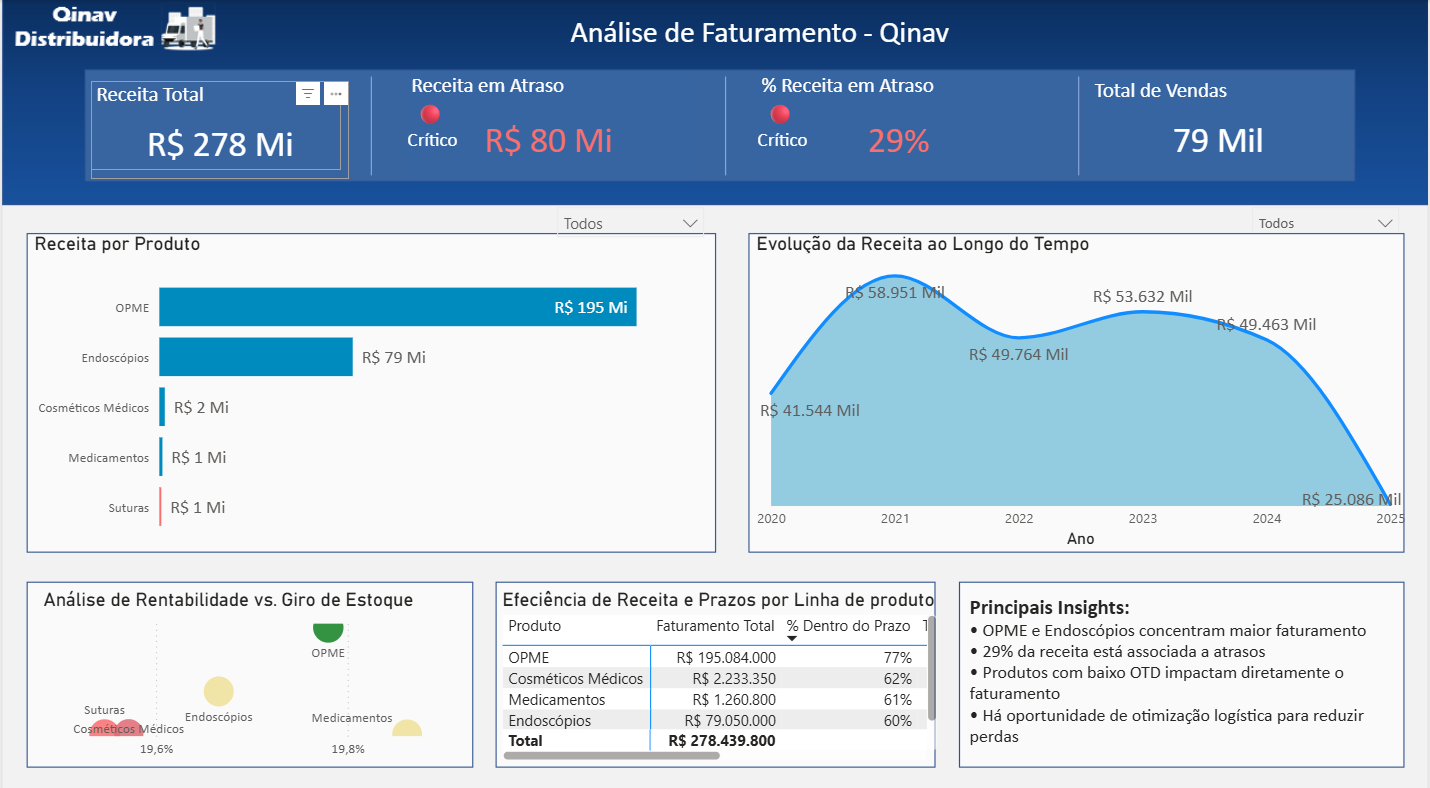

The page's visual inventory and layout, read from the dashboard file:
{"tool":"powerbi","page":{"name":"ANÁLISE DE FATURAMENTO","canvas":[1280,720],"ordinal":1},"visuals":[{"type":"textbox","box":[296,8,768,48],"z":0},{"type":"card","title":"Receita em Atraso","fields":{"Values":["Medidas.Impacto Receita Atraso"]},"box":[362.5,64.7,256,96],"z":500,"group":"g12"},{"type":"card","title":"% Receita em Atraso","fields":{"Values":["Medidas.% Receita em Atraso"]},"box":[677,64.7,256,96],"z":500,"group":"g16"},{"type":"card","title":"Total de Vendas","fields":{"Values":["Medidas.Total de Vendas"]},"box":[975.5,68.7,232,88],"z":500,"group":"g19"},{"type":"card","title":" Receita Total","fields":{"Values":["Medidas.Faturamento Total"]},"box":[80,72.7,232,88],"z":500,"group":"g24"},{"type":"group","id":"g1","title":"Grupo 3","box":[975.5,68.7,232,88],"z":1000},{"type":"clusteredBarChart","title":"Receita por Produto","fields":{"Category":["14-Analise-OTD-Distrubuidora.tipo_produto"],"Y":["Medidas.Faturamento Total"]},"box":[24,208,616,288],"z":2000},{"type":"group","id":"g2","title":"Grupo 2","box":[362.5,64.7,256,96],"z":3000,"group":"g6"},{"type":"group","id":"g3","title":"Grupo 2","box":[677,64.7,256,96],"z":3000,"group":"g7"},{"type":"areaChart","title":"Evolução da Receita ao Longo do Tempo","fields":{"Y":["Medidas.Faturamento Total"],"Category":["DCalendario.Ano"]},"box":[672,208,592,288],"z":3000},{"type":"card","fields":{"Values":["Medidas.Status OTD"]},"box":[346.5,80.7,80,64],"z":3500,"group":"g6"},{"type":"card","fields":{"Values":["Medidas.Status OTD"]},"box":[661,80.7,80,64],"z":3500,"group":"g7"},{"type":"pivotTable","title":"Efeciência de Receita e Prazos por Linha de produto","fields":{"Rows":["14-Analise-OTD-Distrubuidora.tipo_produto"],"Values":["Medidas.Faturamento Total","Medidas.% Dentro do Prazo - Sem Total","Medidas.Tempo Médio Entrega - Sem o Total","Medidas.Rotatividade - Sem o Total"]},"box":[444,528,400,160],"z":4000},{"type":"slicer","fields":{"Values":["14-Analise-OTD-Distrubuidora.data.Variation.Hierarquia de datas.Ano"]},"box":[1112,176,152,32],"z":5000},{"type":"textbox","box":[864,528,392,160],"z":6000},{"type":"scatterChart","title":"Análise de Rentabilidade vs. Giro de Estoque","fields":{"X":["Medidas.Rotatividade Estoque"],"Y":["Medidas.Faturamento Total"],"Size":["CountNonNull(14-Analise-OTD-Distrubuidora.nivel_estoque)"],"Category":["14-Analise-OTD-Distrubuidora.tipo_produto"]},"box":[32,528,384,160],"z":7000},{"type":"group","id":"g4","title":"Grupo 8","box":[661,64.7,272,96],"z":8000},{"type":"group","id":"g5","title":"Grupo 1","box":[80,72.7,224,80],"z":9000},{"type":"group","id":"g6","title":"Grupo 9","box":[346.5,64.7,272,96],"z":9002,"group":"g8"},{"type":"group","id":"g7","title":"Grupo 9","box":[661,64.7,272,96],"z":9002,"group":"g4"},{"type":"group","id":"g8","title":"Grupo 8","box":[346.5,64.7,272,96],"z":10000},{"type":"slicer","fields":{"Values":["14-Analise-OTD-Distrubuidora.tipo_produto"]},"box":[488,176,152,48],"z":11000},{"type":"group","id":"g9","title":"Grupo 3","box":[362.5,64.7,256,96],"z":11001,"group":"g2"},{"type":"group","id":"g10","title":"Grupo 4","box":[362.5,64.7,256,96],"z":11001,"group":"g9"},{"type":"group","id":"g11","title":"Grupo 5","box":[362.5,64.7,256,96],"z":11001,"group":"g10"},{"type":"group","id":"g12","title":"Grupo 6","box":[362.5,64.7,256,96],"z":11001,"group":"g11"},{"type":"group","id":"g13","title":"Grupo 3","box":[677,64.7,256,96],"z":11001,"group":"g3"},{"type":"group","id":"g14","title":"Grupo 4","box":[677,64.7,256,96],"z":11001,"group":"g13"},{"type":"group","id":"g15","title":"Grupo 5","box":[677,64.7,256,96],"z":11001,"group":"g14"},{"type":"group","id":"g16","title":"Grupo 6","box":[677,64.7,256,96],"z":11001,"group":"g15"},{"type":"group","id":"g17","title":"Grupo 4","box":[975.5,68.7,232,88],"z":11001,"group":"g1"},{"type":"group","id":"g18","title":"Grupo 5","box":[975.5,68.7,232,88],"z":11001,"group":"g17"},{"type":"group","id":"g19","title":"Grupo 6","box":[975.5,68.7,232,88],"z":11001,"group":"g18"},{"type":"group","id":"g20","title":"Grupo 2","box":[80,72.7,232,88],"z":11001,"group":"g5"},{"type":"group","id":"g21","title":"Grupo 3","box":[80,72.7,232,88],"z":11001,"group":"g20"},{"type":"group","id":"g22","title":"Grupo 4","box":[80,72.7,232,88],"z":11001,"group":"g21"},{"type":"group","id":"g23","title":"Grupo 5","box":[80,72.7,232,88],"z":11001,"group":"g22"},{"type":"group","id":"g24","title":"Grupo 6","box":[80,72.7,232,88],"z":11001,"group":"g23"}]}

Visuals, with their boxes in screenshot pixels (x1, y1, x2, y2), scaled from the page's 1280x720 canvas onto the 1430x788 screenshot:
textbox: 331,9,1189,61
"Receita em Atraso" card: 405,71,691,176
"% Receita em Atraso" card: 756,71,1042,176
"Total de Vendas" card: 1090,75,1349,171
" Receita Total" card: 89,80,349,176
"Grupo 3" group: 1090,75,1349,171
"Receita por Produto" clusteredBarChart: 27,228,715,543
"Grupo 2" group: 405,71,691,176
"Grupo 2" group: 756,71,1042,176
"Evolução da Receita ao Longo do Tempo" areaChart: 751,228,1412,543
card - Medidas.Status OTD: 387,88,476,158
card - Medidas.Status OTD: 738,88,828,158
"Efeciência de Receita e Prazos por Linha de produto" pivotTable: 496,578,943,753
slicer - 14-Analise-OTD-Distrubuidora.data.Variation.Hierarquia de datas.Ano: 1242,193,1412,228
textbox: 965,578,1403,753
"Análise de Rentabilidade vs. Giro de Estoque" scatterChart: 36,578,465,753
"Grupo 8" group: 738,71,1042,176
"Grupo 1" group: 89,80,340,167
"Grupo 9" group: 387,71,691,176
"Grupo 9" group: 738,71,1042,176
"Grupo 8" group: 387,71,691,176
slicer - 14-Analise-OTD-Distrubuidora.tipo_produto: 545,193,715,245
"Grupo 3" group: 405,71,691,176
"Grupo 4" group: 405,71,691,176
"Grupo 5" group: 405,71,691,176
"Grupo 6" group: 405,71,691,176
"Grupo 3" group: 756,71,1042,176
"Grupo 4" group: 756,71,1042,176
"Grupo 5" group: 756,71,1042,176
"Grupo 6" group: 756,71,1042,176
"Grupo 4" group: 1090,75,1349,171
"Grupo 5" group: 1090,75,1349,171
"Grupo 6" group: 1090,75,1349,171
"Grupo 2" group: 89,80,349,176
"Grupo 3" group: 89,80,349,176
"Grupo 4" group: 89,80,349,176
"Grupo 5" group: 89,80,349,176
"Grupo 6" group: 89,80,349,176
